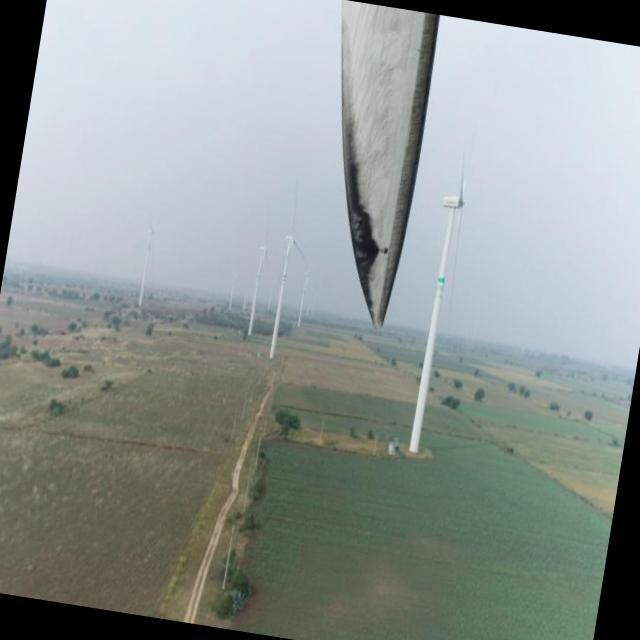Dirt: (338, 0, 442, 323)
Oil LEAKAGE: (345, 126, 383, 322)
Pin Hole: (380, 244, 389, 261)
